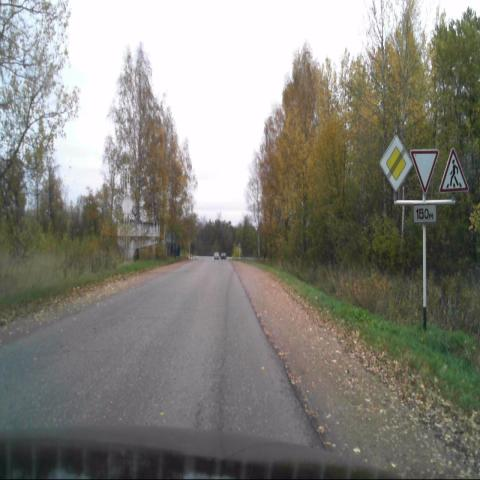1_22: (440, 147, 468, 192)
2_2: (379, 134, 412, 193)
2_4: (410, 148, 438, 196)
8_1_1: (412, 204, 437, 223)
